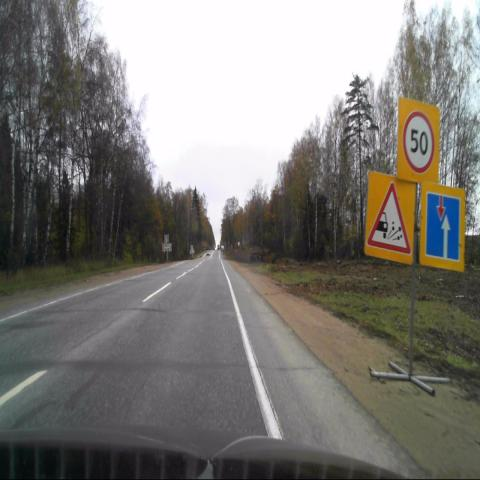1_18: (364, 171, 414, 264)
2_7: (420, 183, 466, 270)
